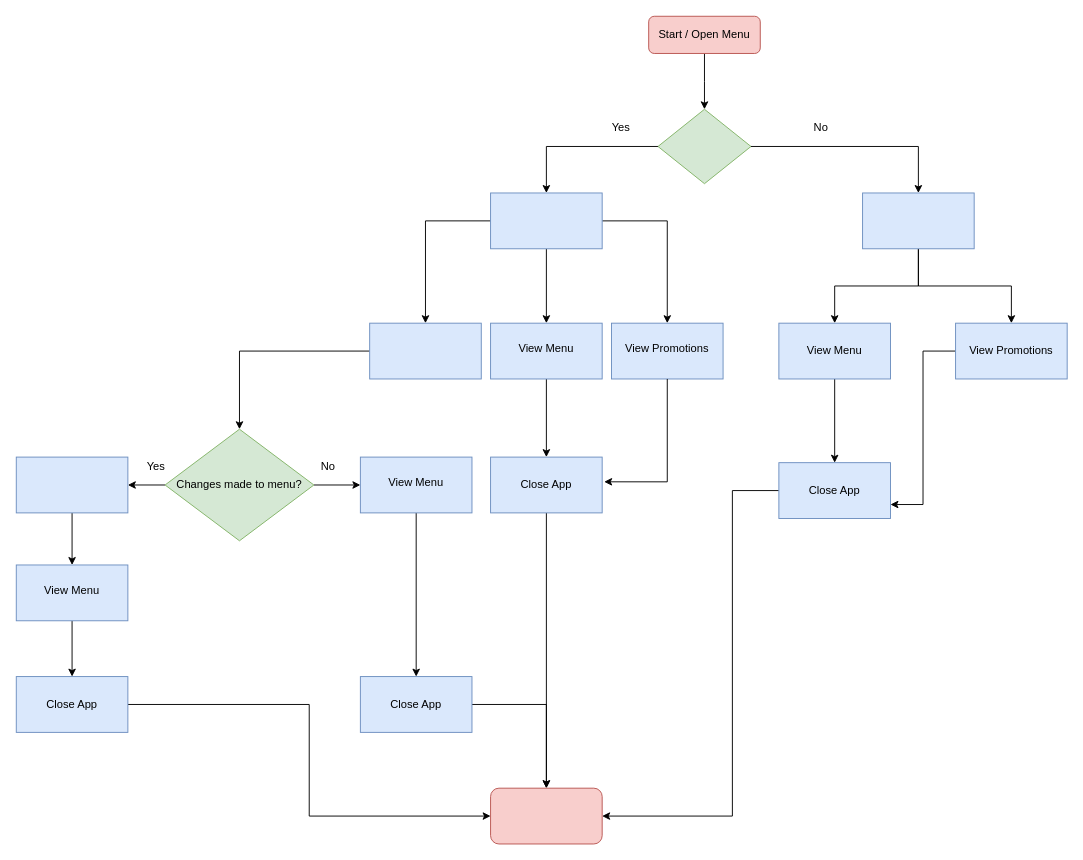
Some shapes in this 1083 by 860 pixel diagram are drawn without their labels. Here are the shapes that lost their labels. From the top down, the box of each, then its label:
(657, 108, 751, 184): Admin of App?
(490, 192, 602, 249): Web Application
(862, 192, 974, 249): Mobile App
(369, 322, 481, 379): Change Menu
(15, 456, 128, 513): Update Changes
(490, 787, 602, 844): END
